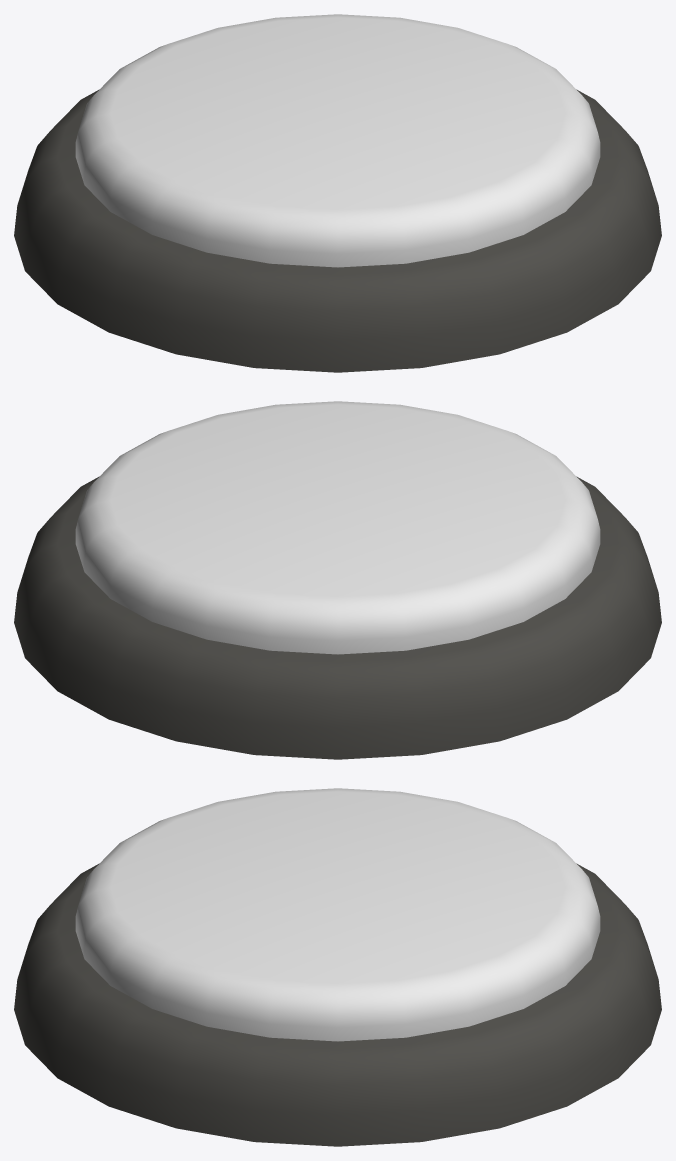
The model's file is Button.fbx.
3 views of the same model, one above another, from view 1: azimuth 30°, elevation 25°; view 2: azimuth 150°, elevation 25°; view 3: azimuth 270°, elevation 25° (orthographic).
Visible parts, largest first — view 1: button_teamBlue; view 2: button_teamBlue; view 3: button_teamBlue.
Boxes of the visible parts, x1,y1,x2,y2 form: button_teamBlue: [14, 14, 661, 372]; button_teamBlue: [14, 401, 661, 759]; button_teamBlue: [14, 788, 661, 1146].
Size of the model in its own units: 163 by 33.95 by 163.
Materials: 2 (1 with a texture image).
